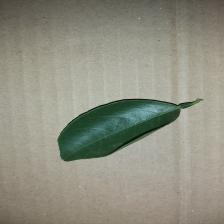healthy: (27, 73, 202, 170)
